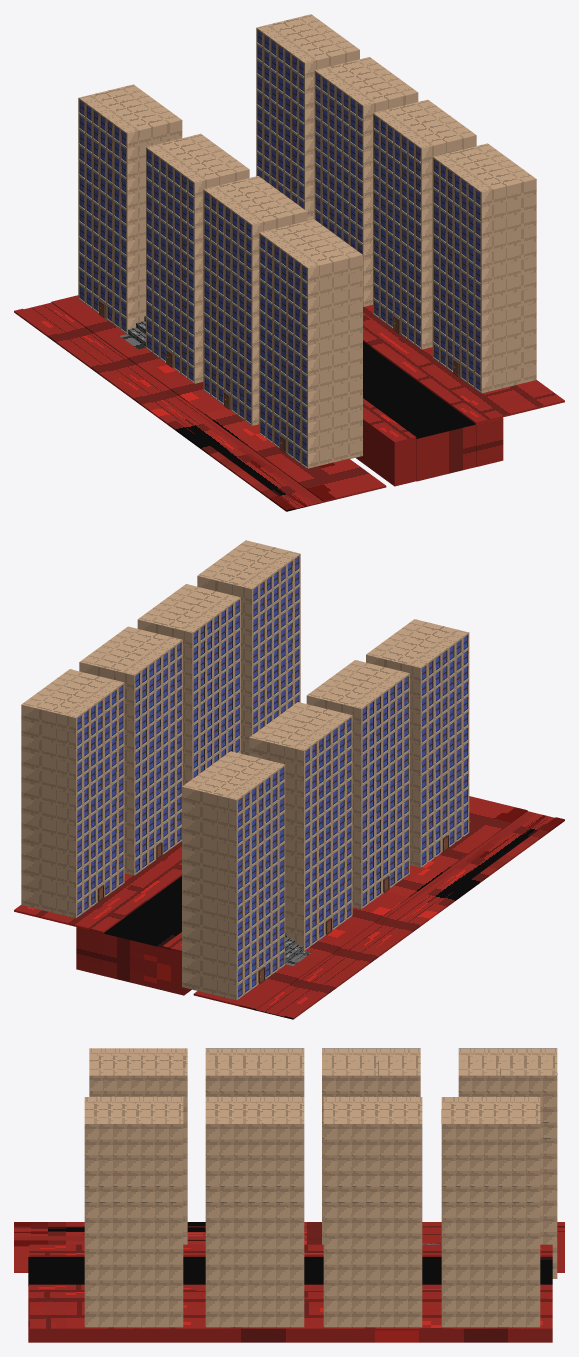
Rendered from cidade.fbx.
3 renders of one model, top to bottom at view 1: azimuth 30°, elevation 25°; view 2: azimuth 150°, elevation 25°; view 3: azimuth 270°, elevation 25°, orthographic.
Parts seen in each view (by area): view 1: Pre'io.007, Pre'io.006, estrado, Estrada cima, Pre'io.001, Pre'io.003, Pre'io, Pre'io.002, Pre'io.004, Pre'io.005; view 2: Pre'io.001, Pre'io.005, estrado, Pre'io, Pre'io.006, Pre'io.004, Pre'io.002, Pre'io.007, Pre'io.003, Estrada cima; view 3: Pre'io.003, Pre'io.007, Pre'io.004, Pre'io.005, Estrada cima, Pre'io.001, Pre'io.006, Pre'io, Pre'io.002, estrado.
Boxes of the visible parts, x1,y1,x2,y2 form: Pre'io.007: [432, 143, 536, 393]; Pre'io.006: [259, 219, 362, 468]; estrado: [14, 295, 386, 511]; Estrada cima: [355, 305, 564, 486]; Pre'io.001: [78, 84, 182, 333]; Pre'io.003: [373, 99, 476, 349]; Pre'io: [146, 133, 249, 383]; Pre'io.002: [203, 176, 307, 425]; Pre'io.004: [314, 57, 418, 306]; Pre'io.005: [256, 14, 359, 220]; Pre'io.001: [182, 751, 285, 1000]; Pre'io.005: [21, 669, 124, 918]; estrado: [193, 796, 564, 1019]; Pre'io: [249, 702, 352, 950]; Pre'io.006: [366, 619, 469, 867]; Pre'io.004: [79, 626, 182, 875]; Pre'io.002: [306, 660, 409, 909]; Pre'io.007: [197, 540, 300, 755]; Pre'io.003: [137, 584, 240, 785]; Estrada cima: [14, 841, 191, 995]; Pre'io.003: [205, 1097, 304, 1327]; Pre'io.007: [84, 1097, 183, 1327]; Pre'io.004: [323, 1097, 422, 1327]; Pre'io.005: [441, 1097, 540, 1327]; Estrada cima: [28, 1244, 552, 1342]; Pre'io.001: [458, 1048, 557, 1278]; Pre'io.006: [89, 1048, 187, 1244]; Pre'io: [322, 1048, 420, 1244]; Pre'io.002: [205, 1048, 304, 1096]; estrado: [14, 1222, 564, 1272].
Bounding box in the file's own units: 10397 × 8540 × 17133.
